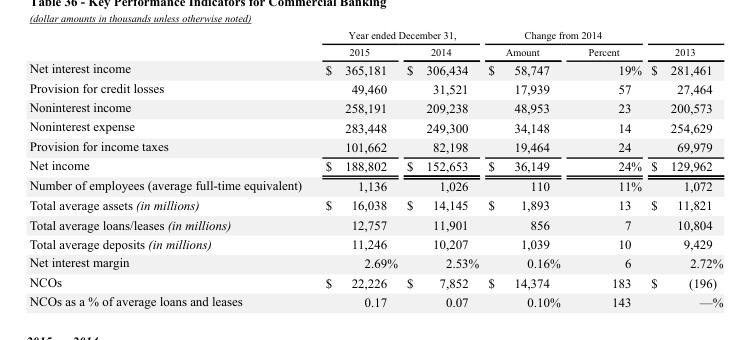table: (28, 28, 722, 308)
table column: (28, 28, 312, 308), (482, 28, 573, 308), (312, 28, 401, 308), (401, 28, 482, 308), (645, 28, 722, 308), (573, 28, 645, 308)
table column header: (28, 28, 722, 58)
table row: (28, 58, 722, 78), (28, 97, 722, 117), (28, 155, 722, 175), (28, 175, 722, 195), (28, 252, 722, 272), (28, 78, 722, 97), (28, 117, 722, 136), (28, 136, 722, 155), (28, 195, 722, 214), (28, 214, 722, 233), (28, 233, 722, 252), (28, 272, 722, 291), (28, 291, 722, 308), (28, 42, 722, 58), (28, 28, 722, 42)
table spanning cell: (312, 28, 482, 42), (645, 28, 722, 58), (482, 28, 645, 42)
